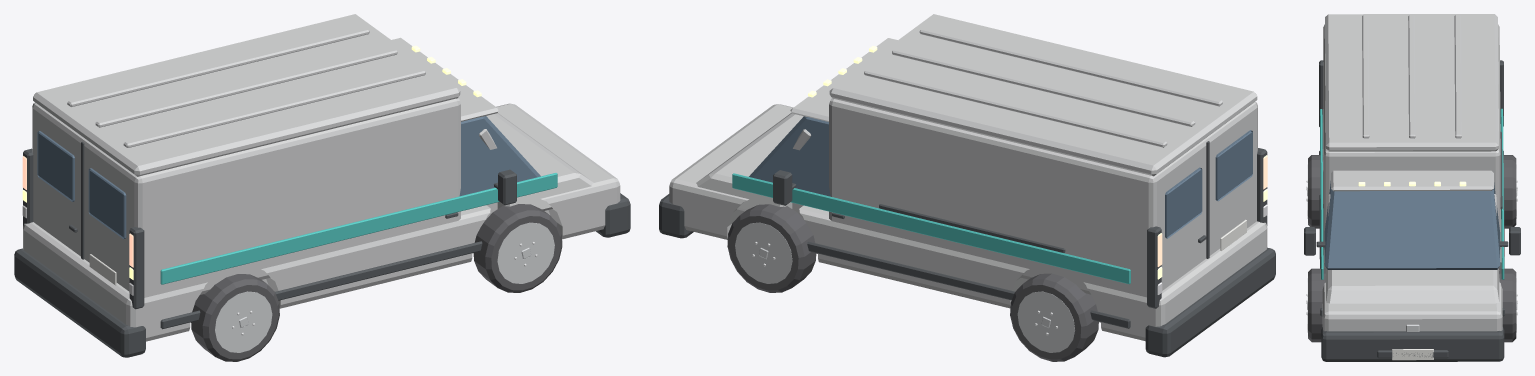
Rendered from DeliveryVan.fbx.
The picture shows the model from 3 angles, left to right: view 1: azimuth 30°, elevation 25°; view 2: azimuth 150°, elevation 25°; view 3: azimuth 270°, elevation 25°; orthographic projection. The views are drawn at different scales.
Visible parts, largest first — view 1: Van_Body, Van_Wheel_FR, Van_Wheel_RR; view 2: Van_Body, Van_Wheel_FL, Van_Wheel_RL; view 3: Van_Body, Van_Wheel_FR, Van_Wheel_FL, Van_Wheel_RL, Van_Wheel_RR.
Boxes of the visible parts, box(x1,y1,x2,y2) form: Van_Body: box(14, 14, 630, 357); Van_Wheel_FR: box(473, 204, 562, 292); Van_Wheel_RR: box(191, 274, 279, 361); Van_Body: box(659, 14, 1275, 357); Van_Wheel_FL: box(727, 204, 816, 292); Van_Wheel_RL: box(1010, 273, 1098, 361); Van_Body: box(1304, 14, 1520, 361); Van_Wheel_FR: box(1306, 268, 1325, 342); Van_Wheel_FL: box(1499, 268, 1517, 342); Van_Wheel_RL: box(1503, 155, 1517, 228); Van_Wheel_RR: box(1306, 155, 1323, 228).
Size of the model in its own units: 581 by 232 by 258.
